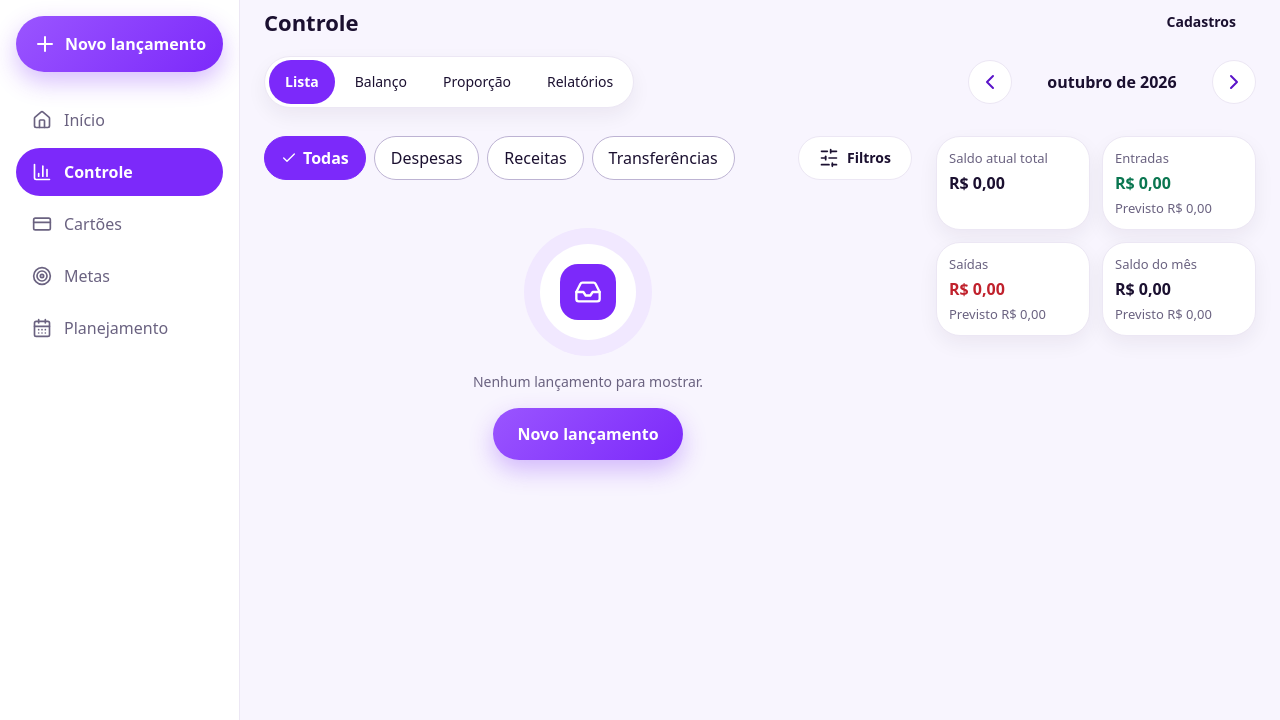
Test: menu "+" (CA-0.02) › a opção "Aporte/Transferência" fecha o menu e abre o formulário "Nova transferência"
expect the heading "Controle" is shown: met, box [264,7,358,37]
Click the 1st button "Novo lançamento": (120, 44) [16,16,223,72]
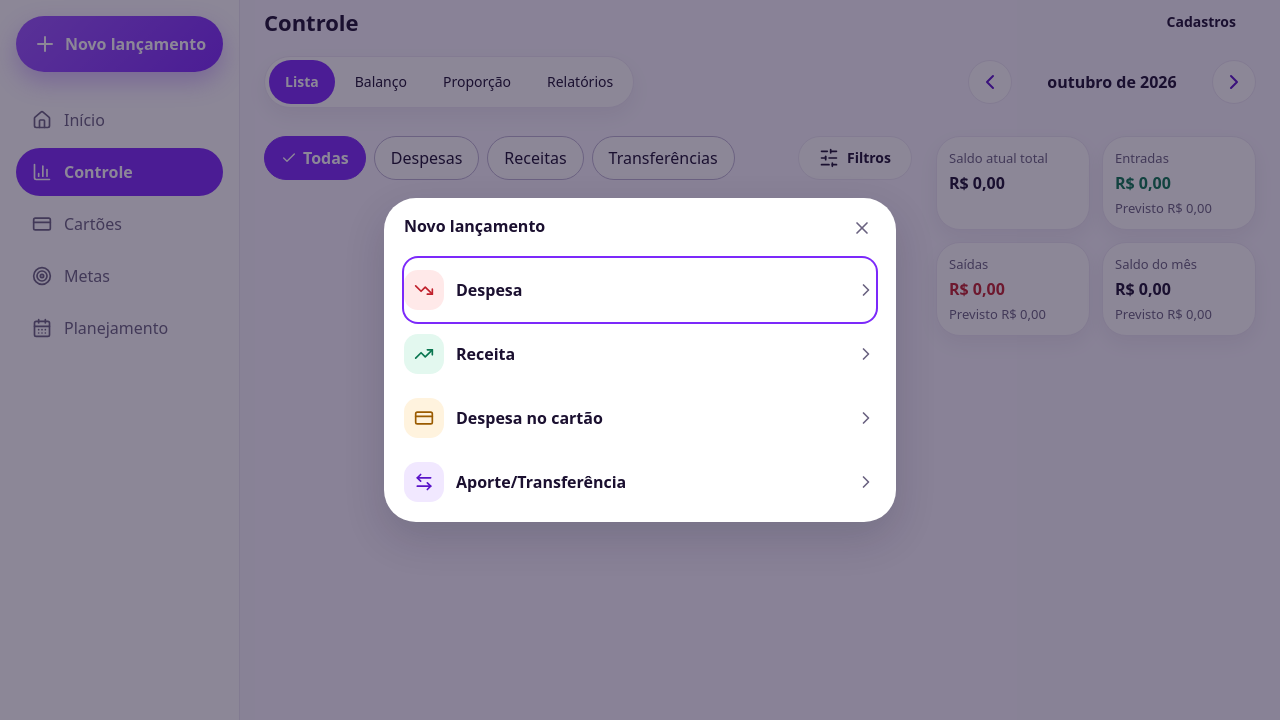
Click the button "Aporte/Transferência": (424, 482) [404,450,876,514]
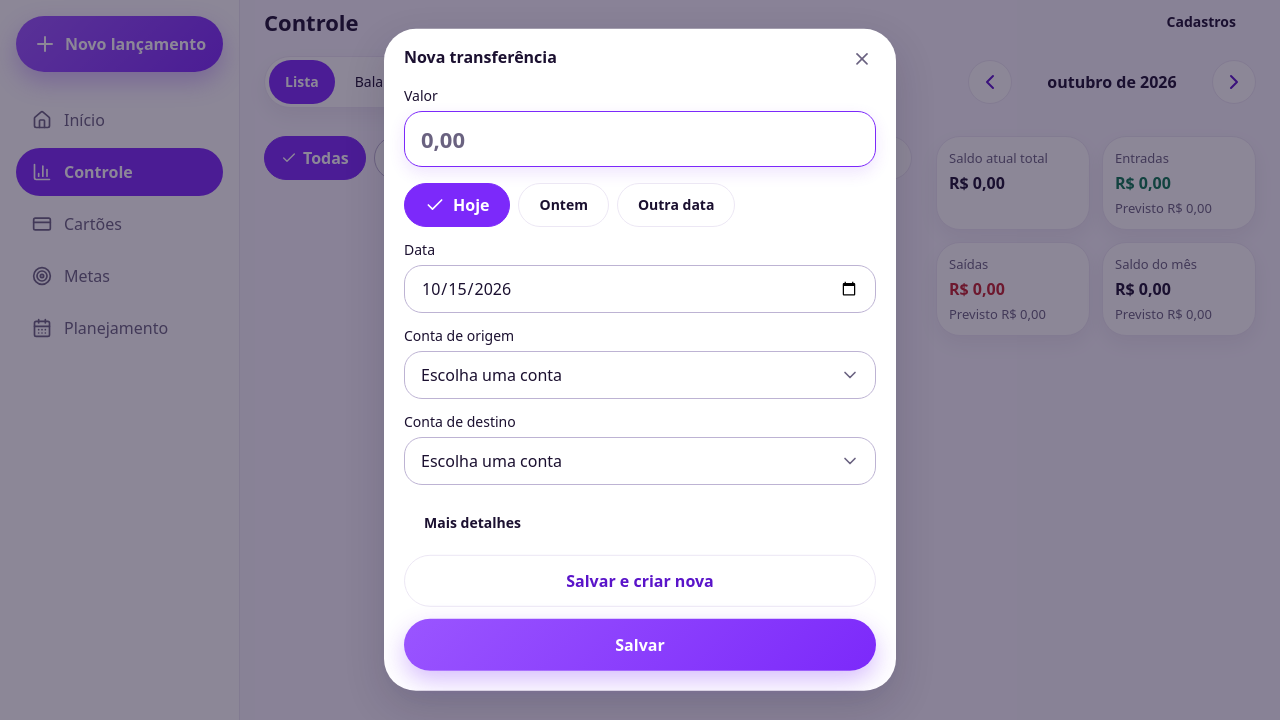
expect the dialog "Nova transferência" is shown: met, box [384,29,896,691]
